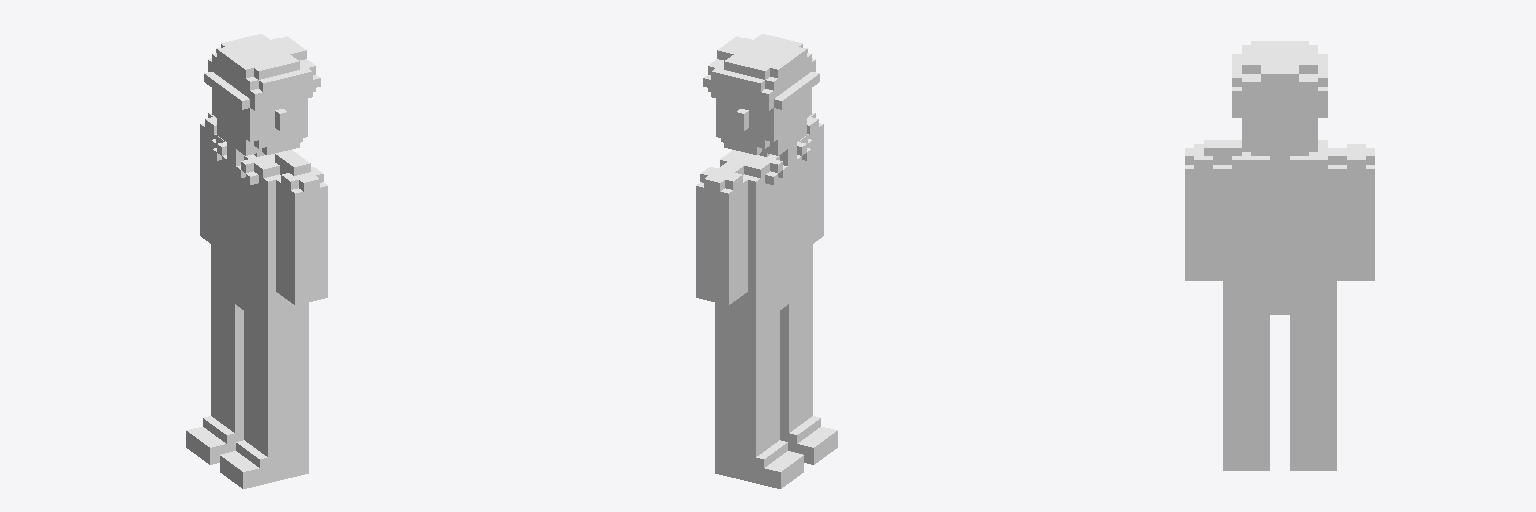
The model's file is Player_Marine.obj.
3 views of the same model, side by side, from view 1: azimuth 30°, elevation 25°; view 2: azimuth 150°, elevation 25°; view 3: azimuth 270°, elevation 25° (orthographic).
Visible parts, largest first — view 1: object 1; view 2: object 1; view 3: object 1.
Part boxes in pixels (x1,y1,x2,y2): object 1: (186,34,327,488); object 1: (696,34,837,488); object 1: (1185,41,1374,470).
Size of the model in its own units: 1 by 4.7 by 2.